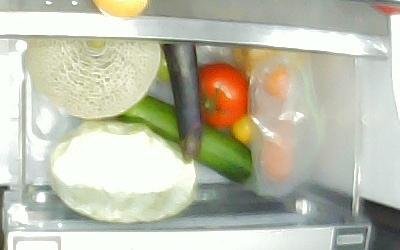cabbage: (47, 120, 197, 222)
carrot_vinyl: (263, 66, 295, 183)
eggplant: (163, 43, 203, 162)
melon: (28, 38, 161, 120)
tangerine: (231, 114, 254, 145)
tomato: (193, 64, 253, 130)
zucchini: (116, 94, 252, 185)
